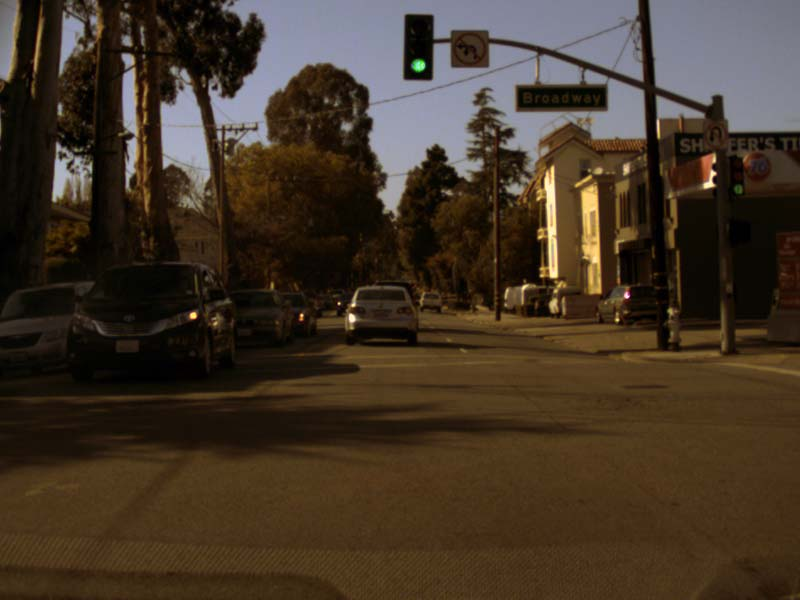Green: (403, 12, 432, 79), (729, 156, 744, 194)
